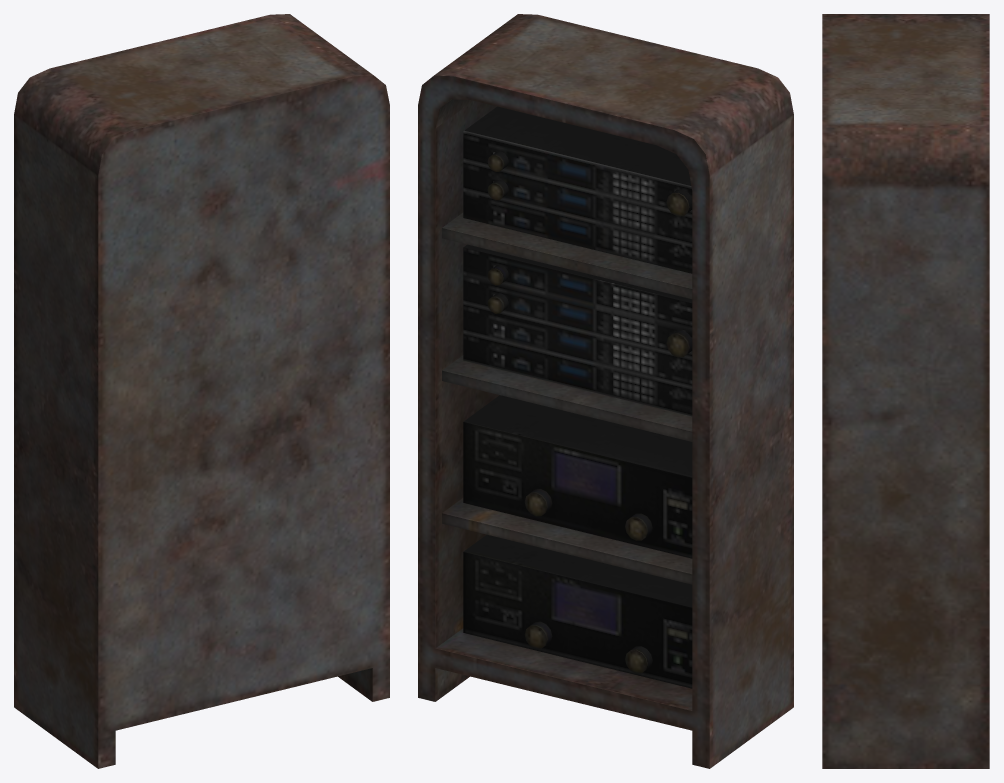
Rendered from ServerCabinet.FBX.
The picture shows the model from 3 angles, left to right: view 1: azimuth 30°, elevation 25°; view 2: azimuth 150°, elevation 25°; view 3: azimuth 270°, elevation 25°; orthographic projection.
Parts seen in each view (by area): view 1: ServerCabinet; view 2: ServerCabinet; view 3: ServerCabinet.
Boxes of the visible parts, box(x1,y1,x2,y2) form: ServerCabinet: box(14, 14, 389, 768); ServerCabinet: box(418, 14, 793, 768); ServerCabinet: box(822, 14, 989, 768).
Size of the model in its own units: 86.26 by 178 by 43.1.
